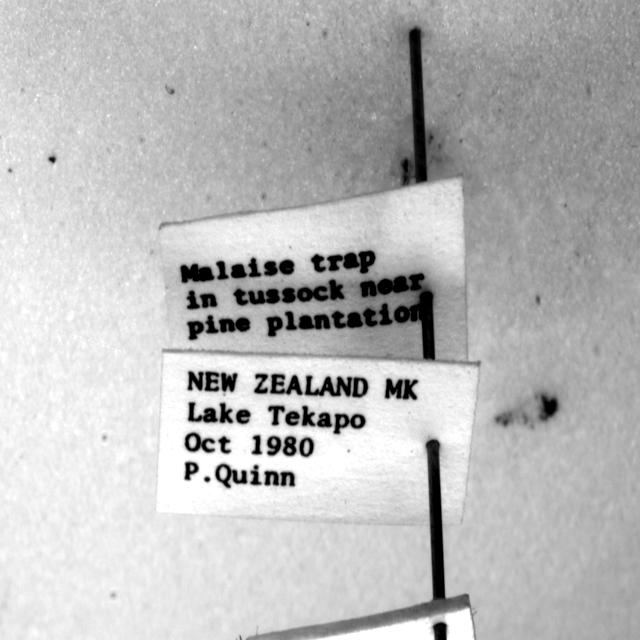typed_label: (160, 176, 468, 362), (156, 351, 479, 525)
